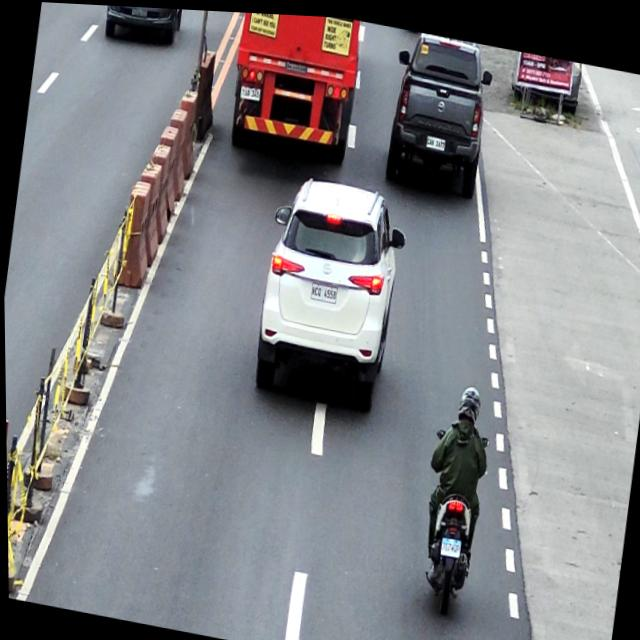Car: (248, 168, 413, 412), (379, 23, 497, 199), (103, 4, 186, 47)
License-Plate: (309, 279, 338, 302), (438, 533, 460, 554), (239, 84, 261, 100), (424, 131, 446, 147), (130, 5, 147, 17)
Motorcycle: (410, 421, 491, 616)
Truck: (223, 9, 366, 165)
